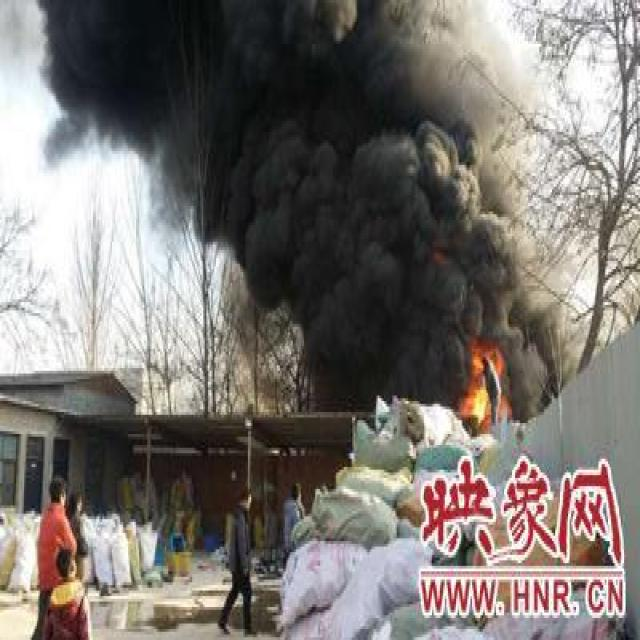fire: (460, 341, 506, 423)
smoke: (37, 0, 578, 404)
